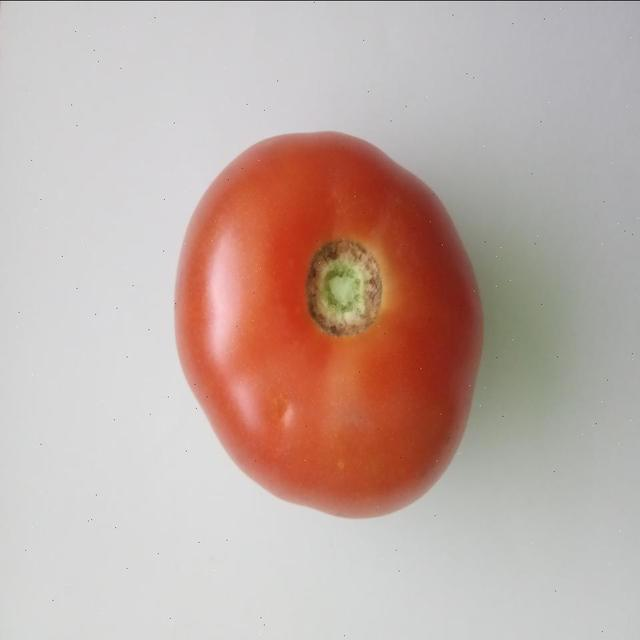Healthy Fruit: (110, 83, 324, 350)
